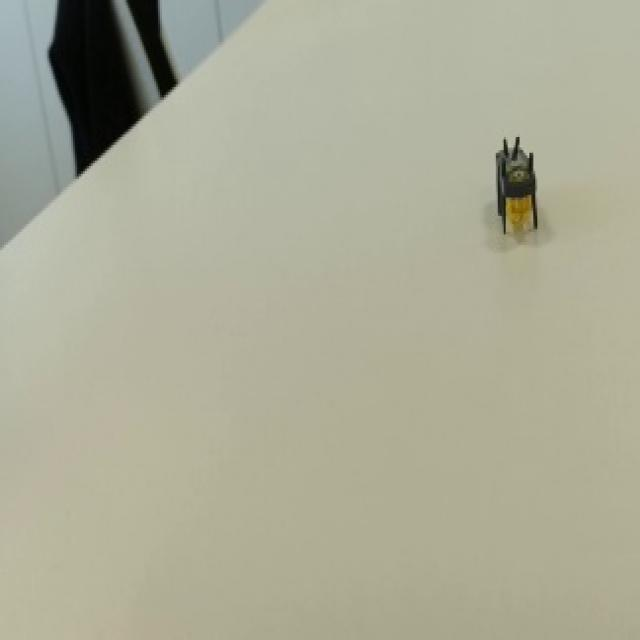6_NanoBug_GrisOscuro: (464, 117, 557, 236)
